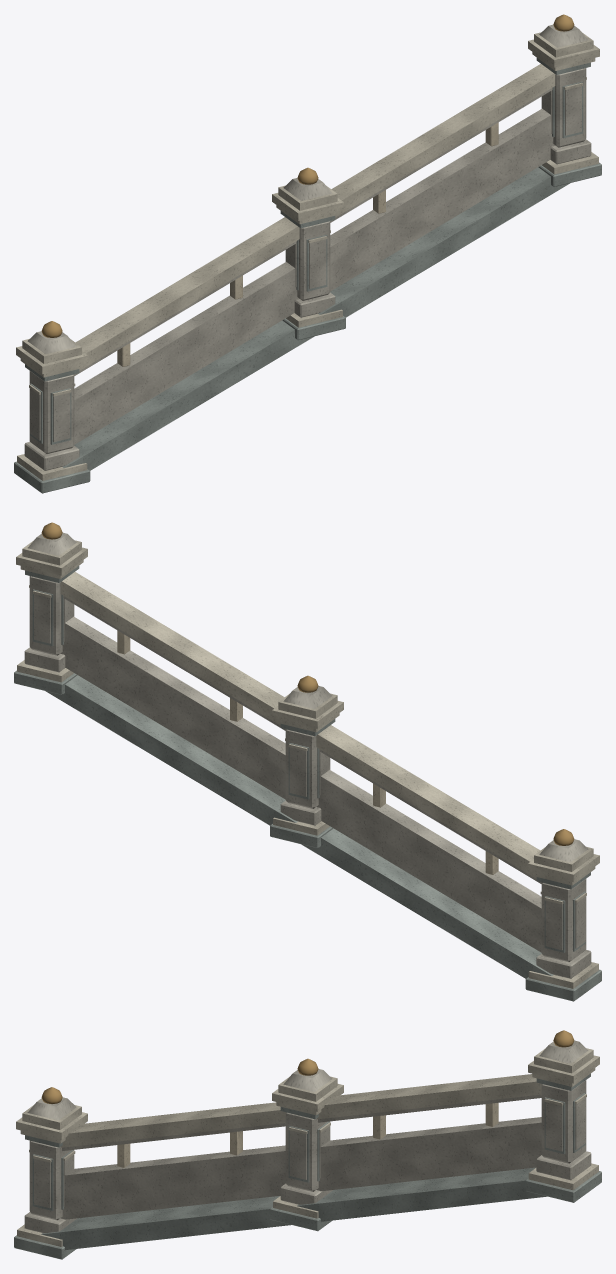
The picture shows the model from 3 angles, top to bottom: view 1: azimuth 30°, elevation 25°; view 2: azimuth 150°, elevation 25°; view 3: azimuth 330°, elevation 25°; orthographic projection.
Parts seen in each view (by area): view 1: D03_stone, D03_light, D03_cool, D03_relief, D03_motif; view 2: D03_stone, D03_light, D03_cool, D03_relief, D03_motif; view 3: D03_stone, D03_cool, D03_light, D03_relief, D03_motif.
Boxes of the visible parts, x1,y1,x2,y2 form: D03_stone: [24, 24, 591, 470]; D03_light: [16, 32, 599, 480]; D03_cool: [14, 58, 601, 493]; D03_relief: [117, 122, 498, 366]; D03_motif: [41, 14, 574, 337]; D03_stone: [24, 532, 591, 978]; D03_light: [16, 540, 599, 988]; D03_cool: [14, 566, 601, 1001]; D03_relief: [117, 630, 498, 874]; D03_motif: [41, 522, 574, 845]; D03_stone: [24, 1040, 591, 1232]; D03_cool: [14, 1073, 601, 1259]; D03_light: [16, 1048, 599, 1246]; D03_relief: [117, 1102, 498, 1167]; D03_motif: [41, 1030, 574, 1103].
Size of the model in its own units: 5.04 by 2.91 by 0.44.
5 materials, 4 textured.
